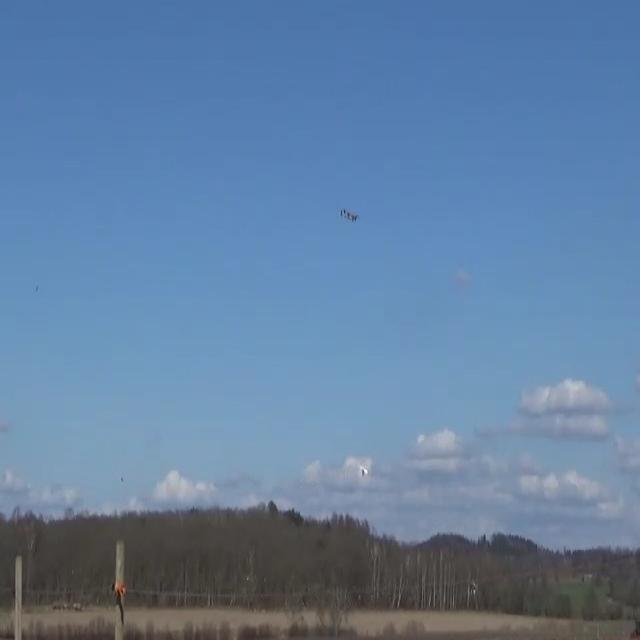drone: (339, 208, 358, 222), (359, 466, 368, 478)
